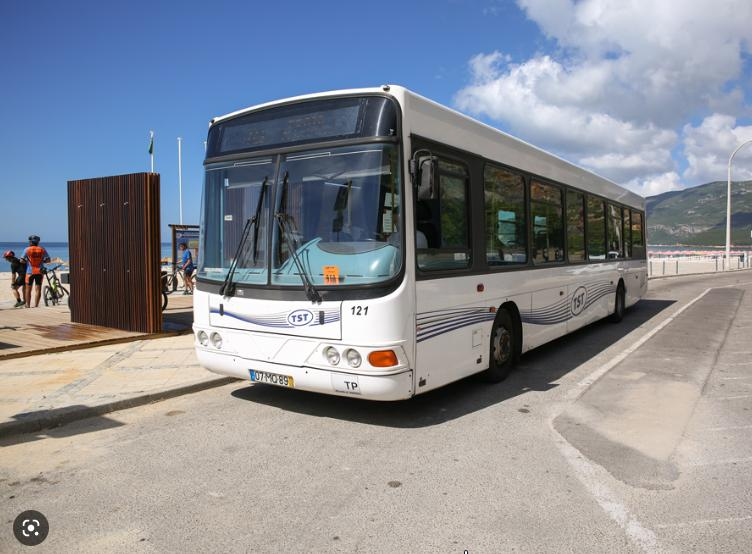vehicle: (193, 84, 648, 401)
